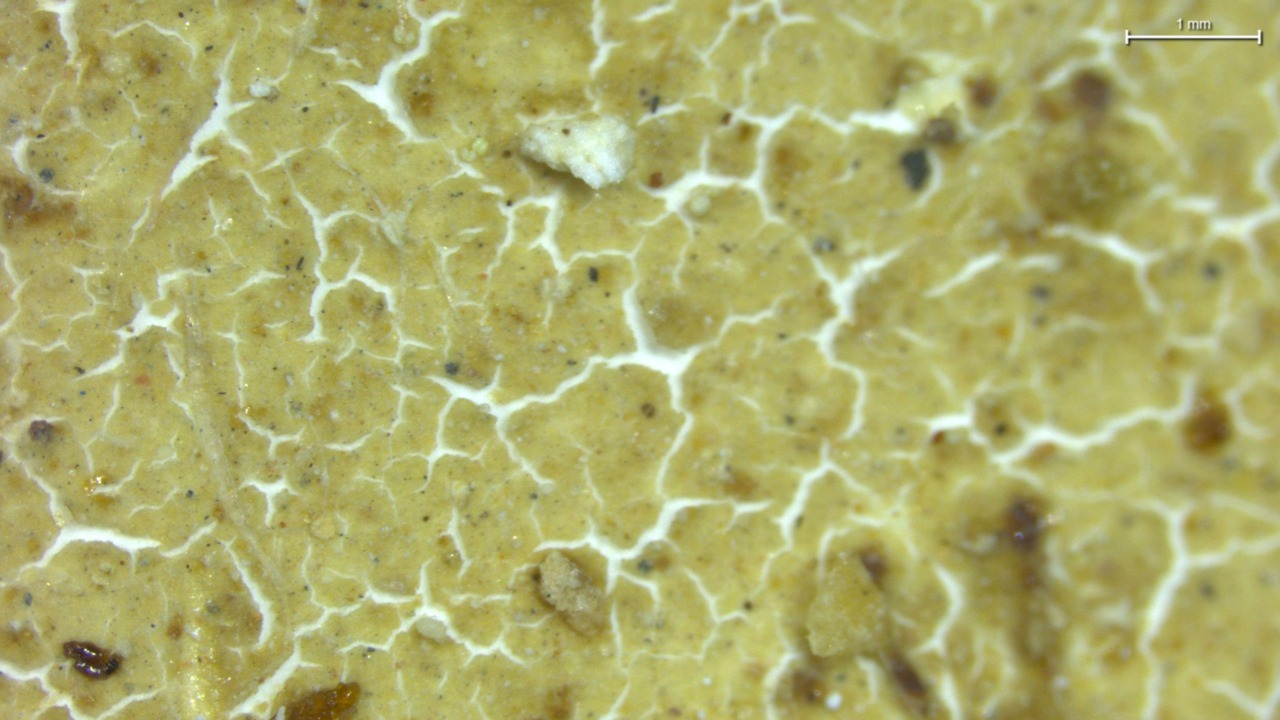microplastic_fragment: (519, 114, 639, 190)
